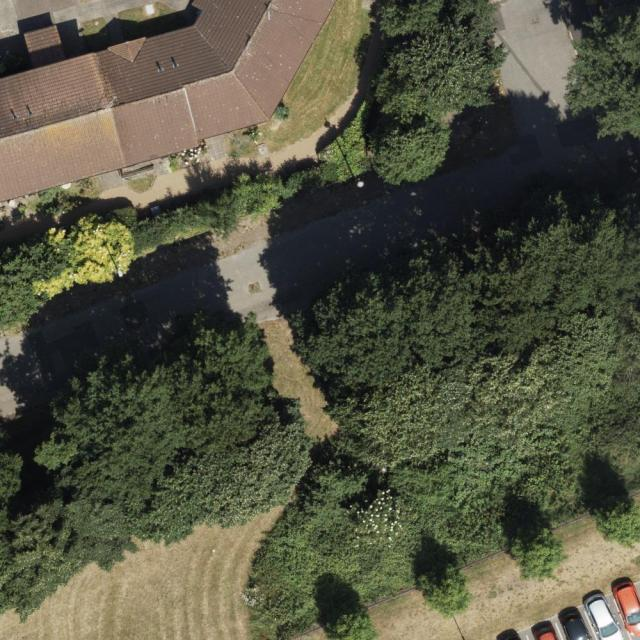roof: (0, 0, 338, 201)
